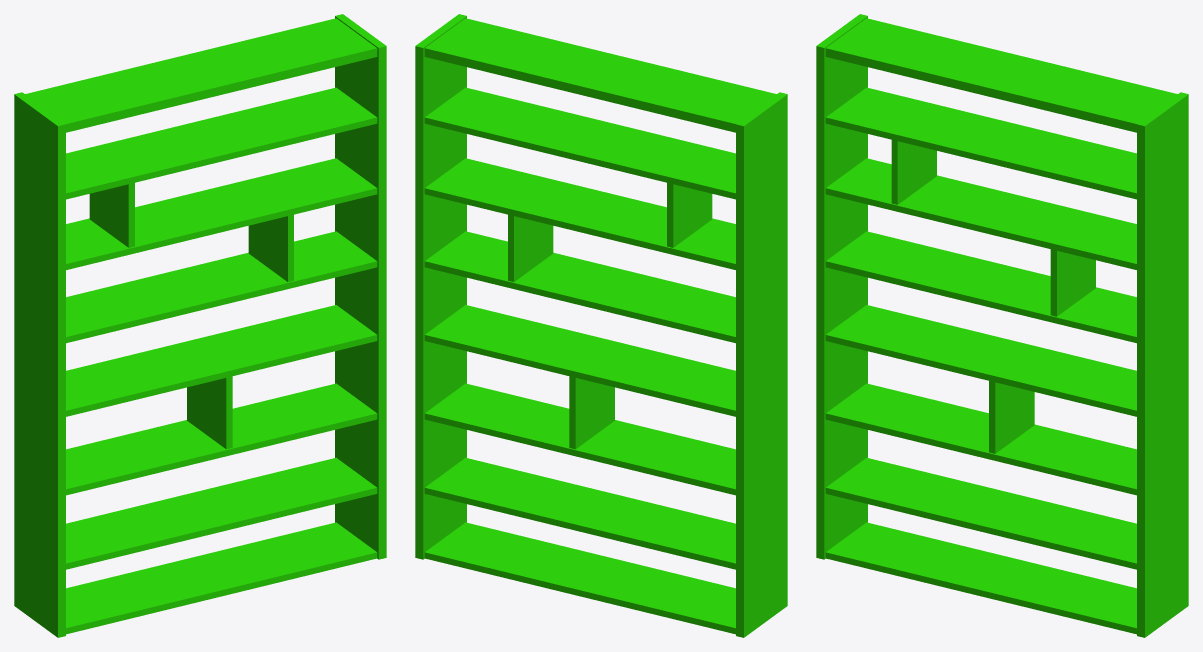
File: Bookcase_02_Lod0.fbx
3 views of the same model, side by side, from view 1: azimuth 30°, elevation 25°; view 2: azimuth 150°, elevation 25°; view 3: azimuth 330°, elevation 25° (orthographic).
Visible parts, largest first — view 1: Bookcase_02_Lod0; view 2: Bookcase_02_Lod0; view 3: Bookcase_02_Lod0.
Part boxes in pixels (x1,y1,x2,y2): Bookcase_02_Lod0: (14, 14, 386, 637); Bookcase_02_Lod0: (415, 14, 787, 637); Bookcase_02_Lod0: (816, 14, 1188, 637).
Bounding box in the file's own units: 182 × 270 × 41.95.
